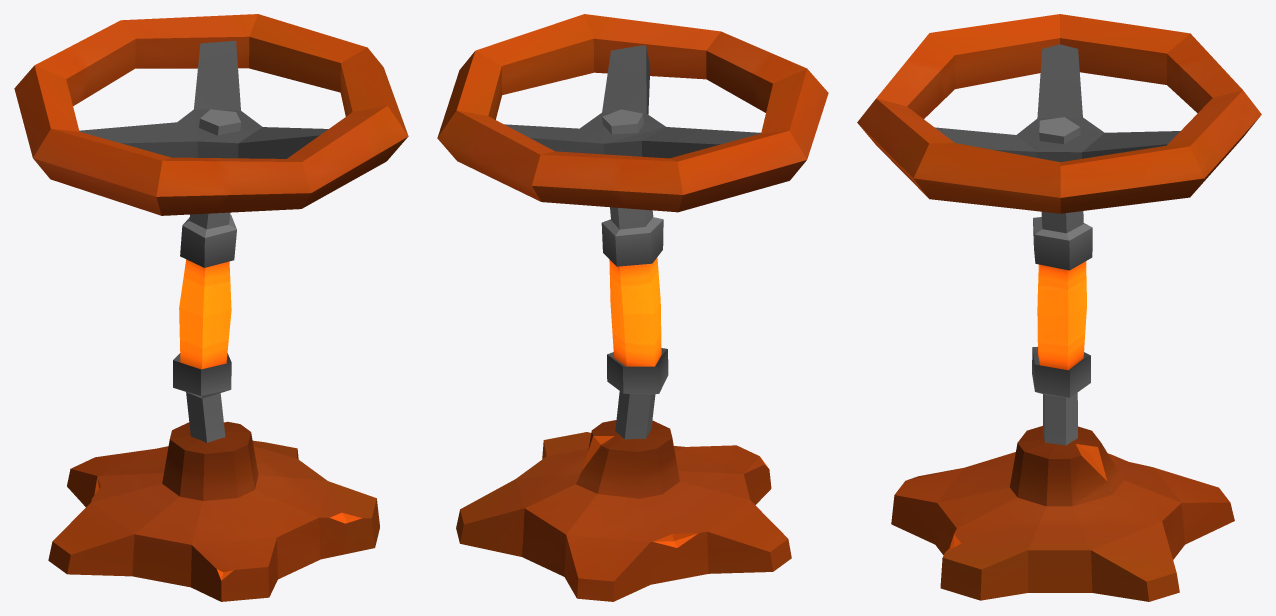
The model's file is Bar Stool.glb.
3 renders of one model, left to right at view 1: azimuth 30°, elevation 25°; view 2: azimuth 150°, elevation 25°; view 3: azimuth 270°, elevation 25°, orthographic.
Parts seen in each view (by area): view 1: BarStool; view 2: BarStool; view 3: BarStool.
Boxes of the visible parts, x1,y1,x2,y2 form: BarStool: (14, 14, 408, 601); BarStool: (437, 14, 828, 601); BarStool: (857, 14, 1261, 601).
Size of what is drawn, in the model's own units: 0.6674 by 0.8175 by 0.661.
1 material, 1 textured.
